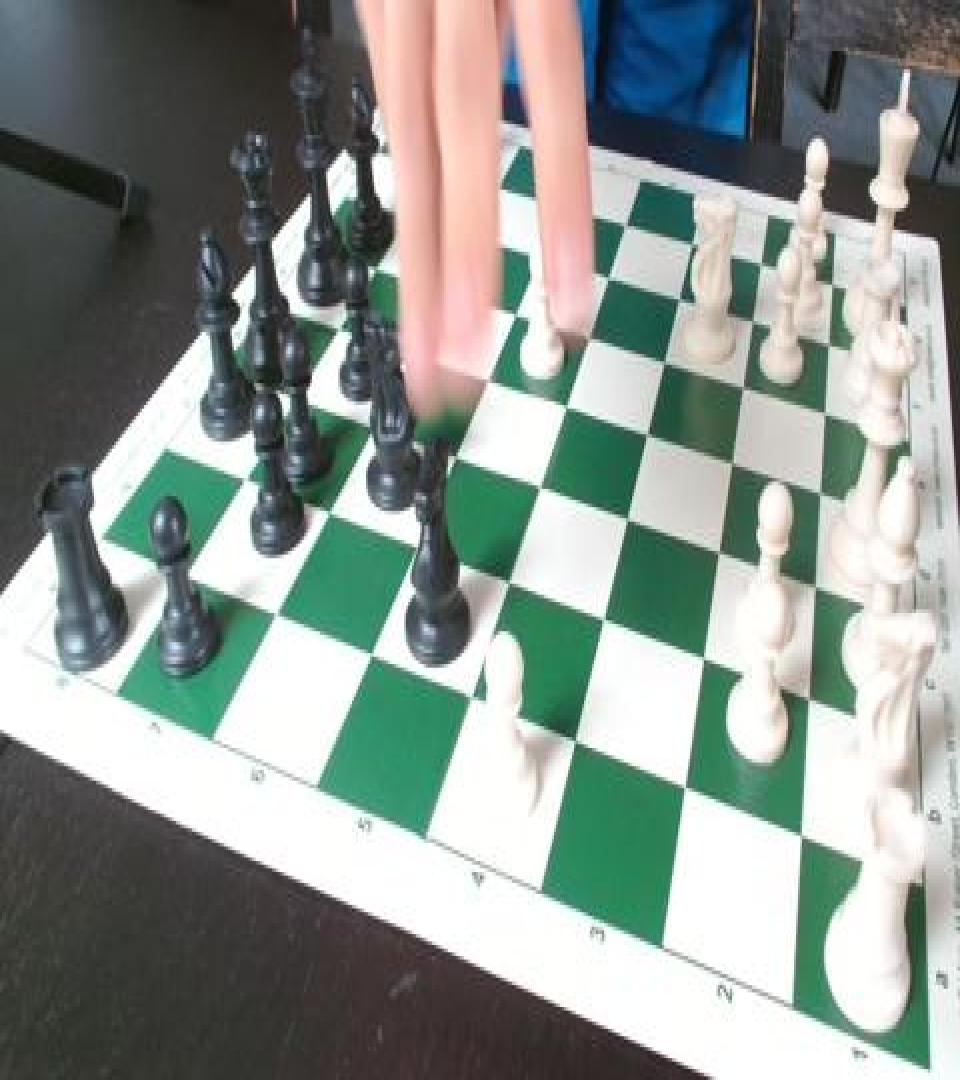xcorner: (265, 589, 291, 637), (359, 629, 385, 677), (458, 669, 484, 717), (562, 715, 588, 763), (234, 452, 260, 500), (317, 485, 343, 533), (691, 631, 717, 679), (795, 673, 821, 721), (284, 372, 310, 420), (361, 399, 387, 447), (706, 525, 732, 573), (801, 560, 827, 608), (474, 352, 500, 400), (552, 379, 578, 427), (806, 465, 832, 513), (501, 286, 527, 334), (574, 310, 600, 358), (729, 359, 755, 407), (525, 228, 551, 276), (814, 317, 840, 365), (423, 142, 449, 190), (677, 217, 703, 265), (746, 237, 772, 285), (817, 257, 843, 305), (175, 551, 201, 598), (672, 761, 698, 808), (788, 810, 814, 857), (404, 520, 430, 567), (495, 555, 521, 602), (591, 593, 617, 640), (442, 429, 468, 476), (526, 460, 552, 507), (614, 491, 640, 538), (326, 301, 352, 348), (399, 327, 425, 374), (633, 407, 659, 454), (718, 436, 744, 483), (363, 241, 389, 288), (431, 263, 457, 310), (650, 334, 676, 381), (811, 385, 837, 432), (395, 188, 421, 235), (459, 208, 485, 255), (594, 250, 620, 297), (665, 272, 691, 319), (738, 294, 764, 341), (483, 161, 509, 208), (546, 179, 572, 226), (611, 197, 637, 244)
